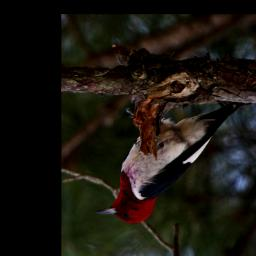Woodpecker: (92, 101, 253, 226)
